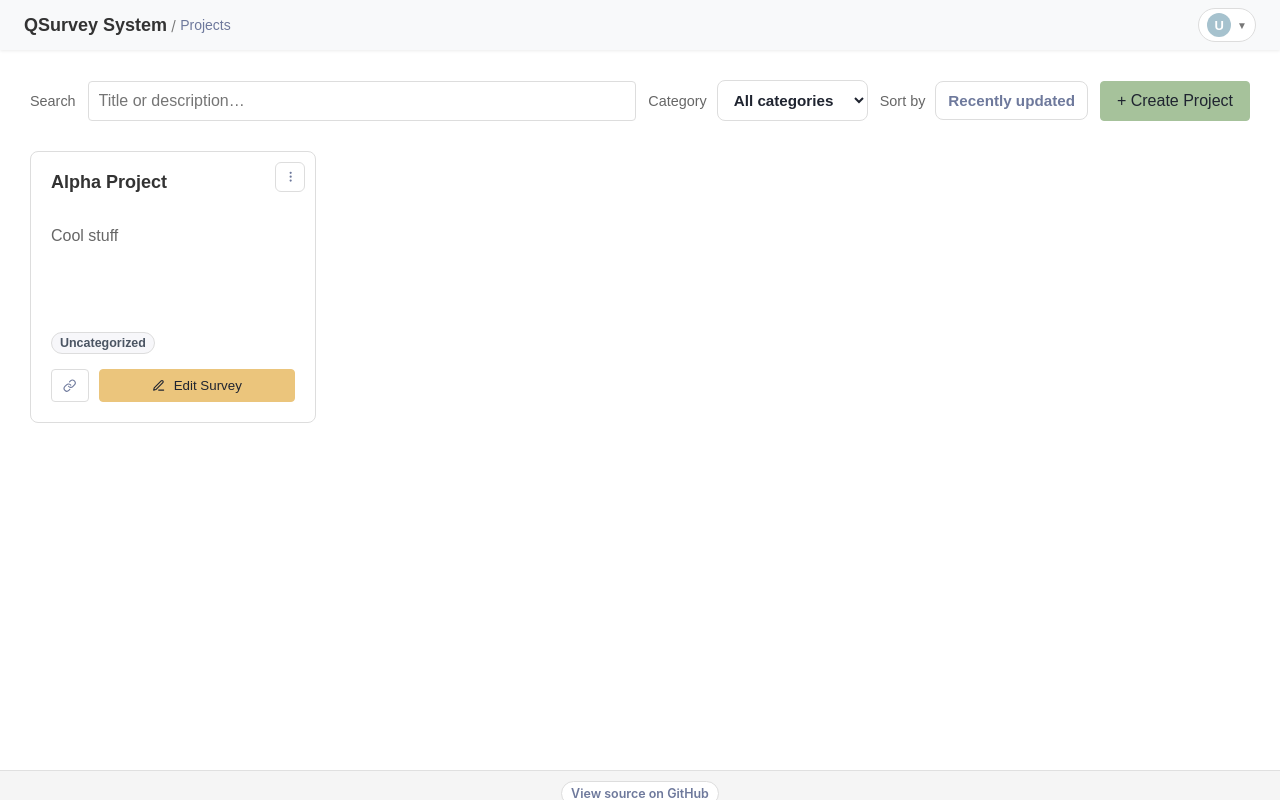
it: DesignerPage projects search/sort › shows copy-link error when fallback clipboard copy fails
Expected: the heading "Alpha Project" is shown, [51, 172, 167, 192]
Click the button named "Copy survey link for Alpha Project".
click(70, 386)  # box [51, 369, 89, 402]
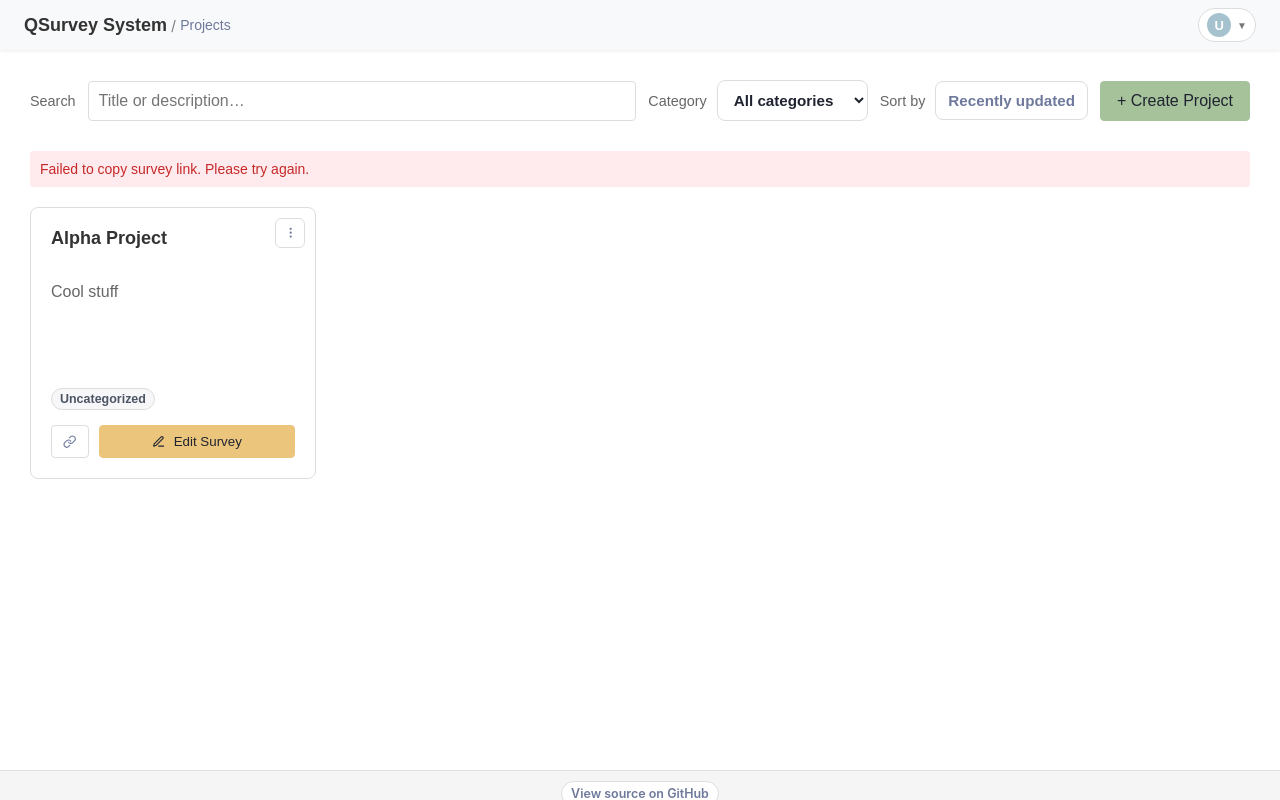
Now the message reads "Failed to copy survey link. Please try again.", box [40, 161, 309, 177]
